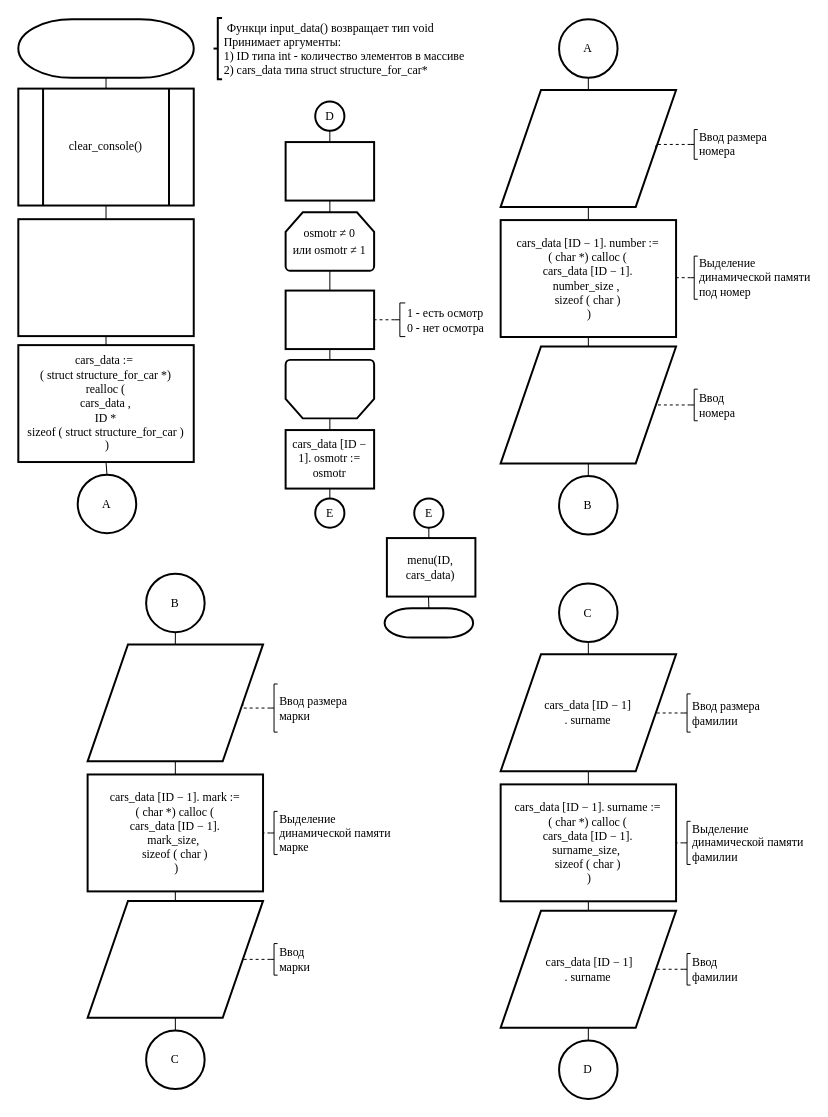
Some shapes in this 828 by 1117 pixel diagram are drawn without their labels. Each missing label, with the centre of its shape:
cars_data [ID − 1] . mark: point (175, 958)
cars_data [ID − 1] . mark_size: point (175, 702)
cars_data [ID − 1] . number: point (588, 404)
cars_data [ID − 1] . number_size: point (588, 148)
ID := ID + 1: point (105, 277)
osmotr := 2: point (329, 171)
osmotr := getch(): point (329, 319)
void input_data(): point (105, 48)
Конец: point (428, 622)
Конец цикла: point (329, 388)
